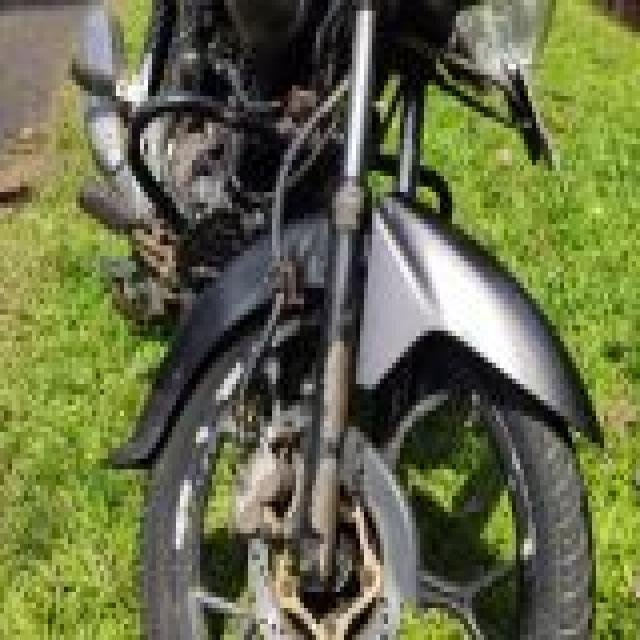motorbike: (67, 3, 604, 640)
